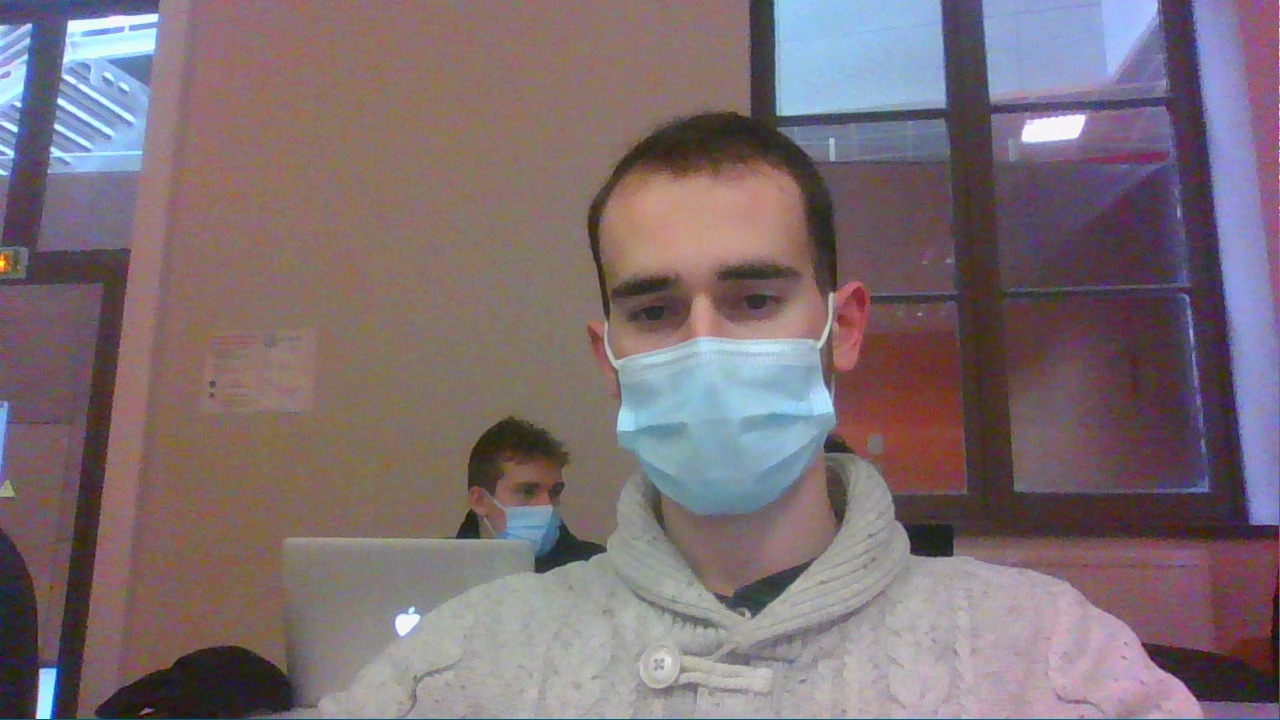mask: (575, 105, 872, 498), (464, 416, 566, 556)
